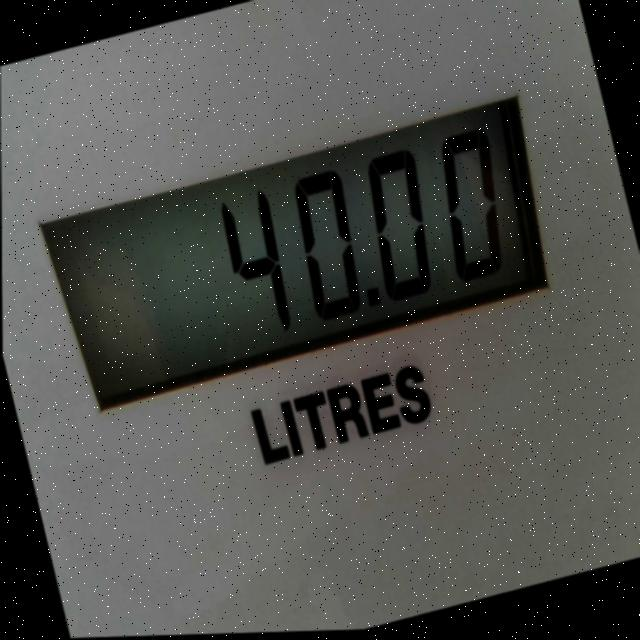.: (354, 273, 399, 331)
0: (423, 121, 531, 295), (349, 137, 451, 310), (272, 165, 371, 329)
4: (201, 181, 305, 348)
